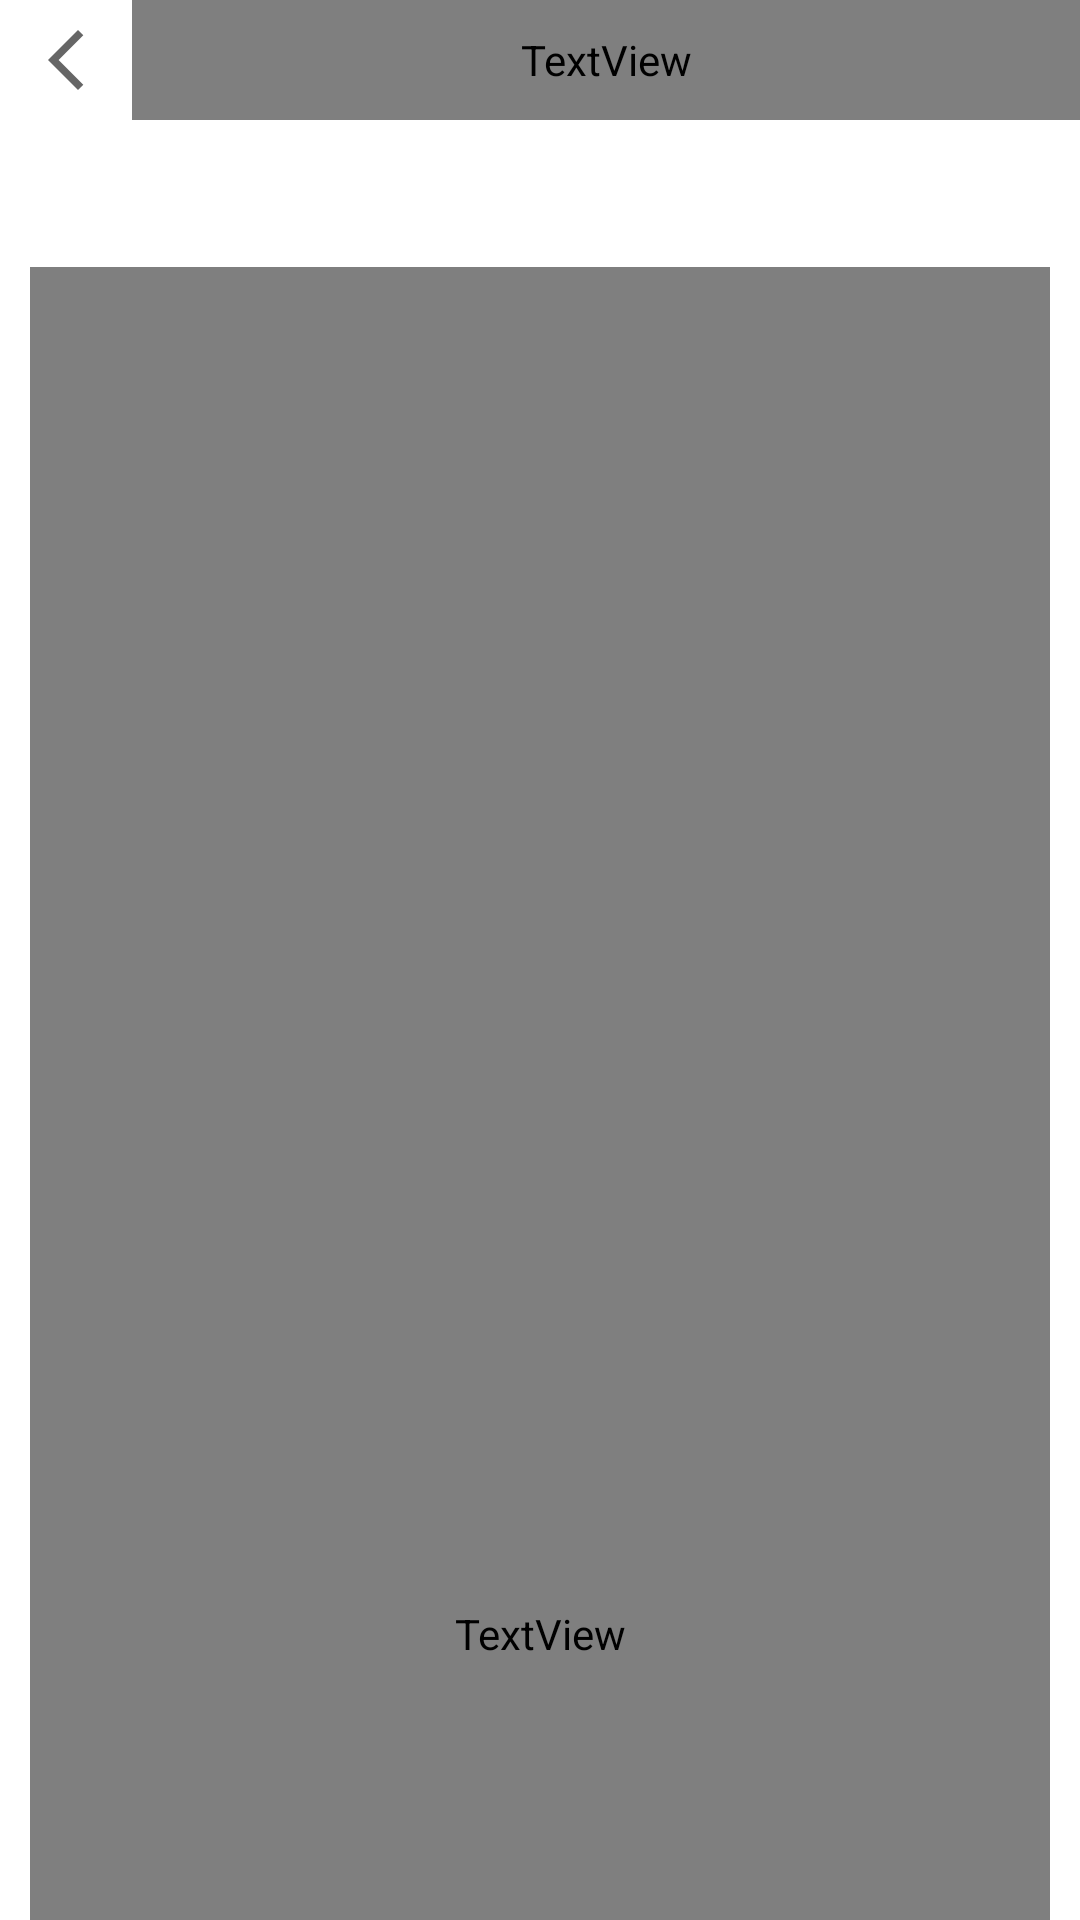

Icon bounding boxes for this 1080x1920 phone screenshot, format bbox=(x1, y1, x2, y2):
backtohome: bbox=(48, 30, 83, 90)
